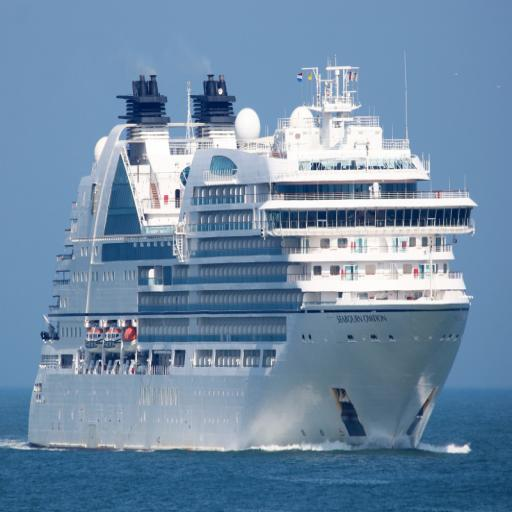cruises: (22, 54, 483, 463)
